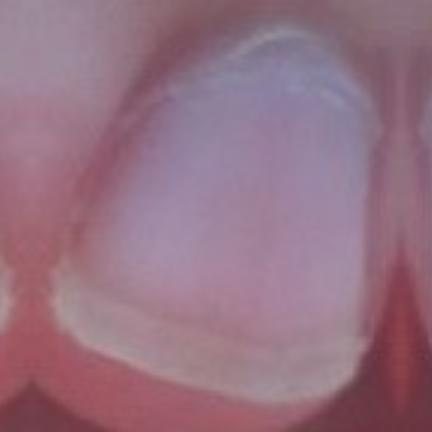Nail: (50, 62, 372, 400), (0, 246, 12, 328), (428, 118, 432, 214)
